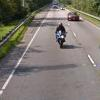Motorcycle: (48, 21, 72, 50)
